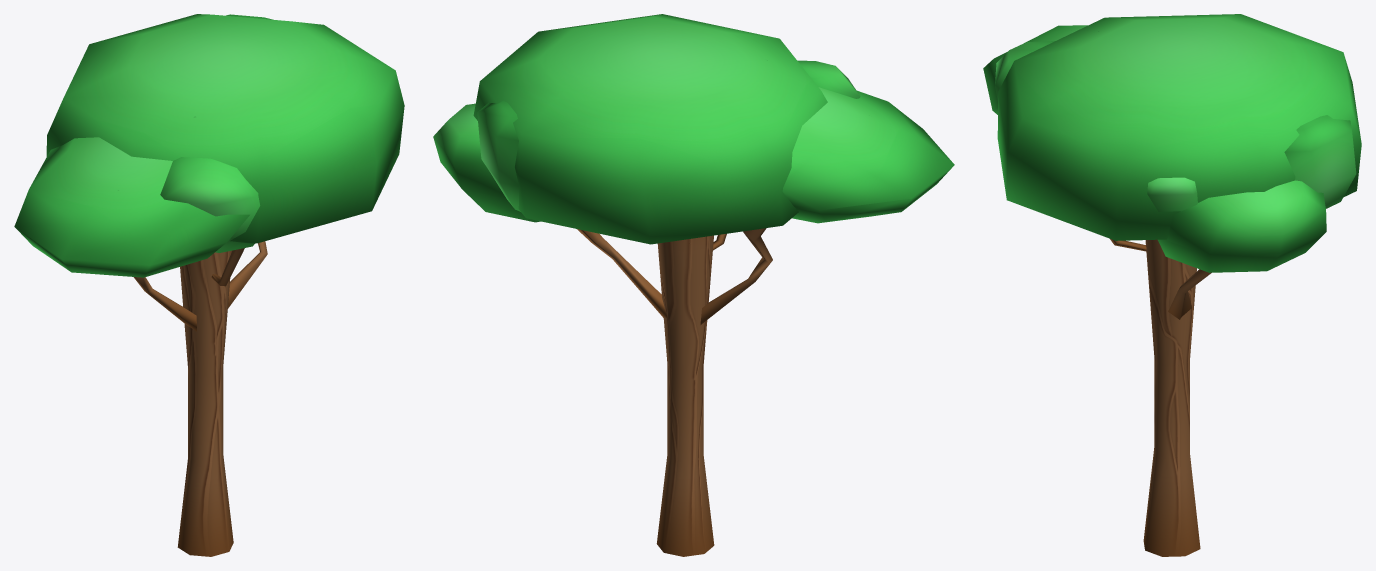
File: french_tree_02.fbx
The picture shows the model from 3 angles, left to right: view 1: azimuth 30°, elevation 25°; view 2: azimuth 150°, elevation 25°; view 3: azimuth 270°, elevation 25°; orthographic projection. The views are drawn at different scales.
Visible parts, largest first — view 1: polySurface241; view 2: polySurface241; view 3: polySurface241.
Boxes of the visible parts, x1=… form: polySurface241: x1=14, y1=14, x2=404, y2=556; polySurface241: x1=433, y1=14, x2=954, y2=556; polySurface241: x1=983, y1=14, x2=1361, y2=556.
Bounding box in the file's own units: 3.21 × 3.63 × 2.45.
